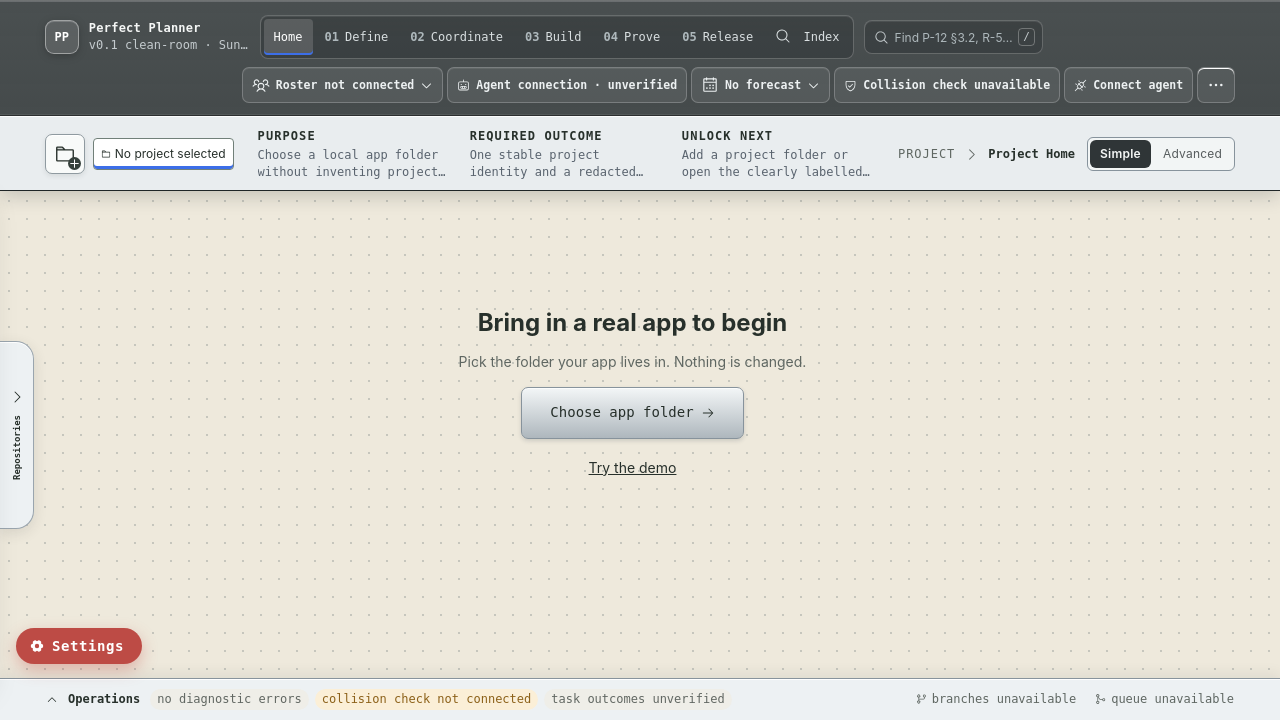
Scenario: Operations distinguishes failed session events from locally saved events
This screenshot has width=1280, height=720.
Click the button with class "ops-handle" at (640, 700), box [0, 679, 1279, 719]
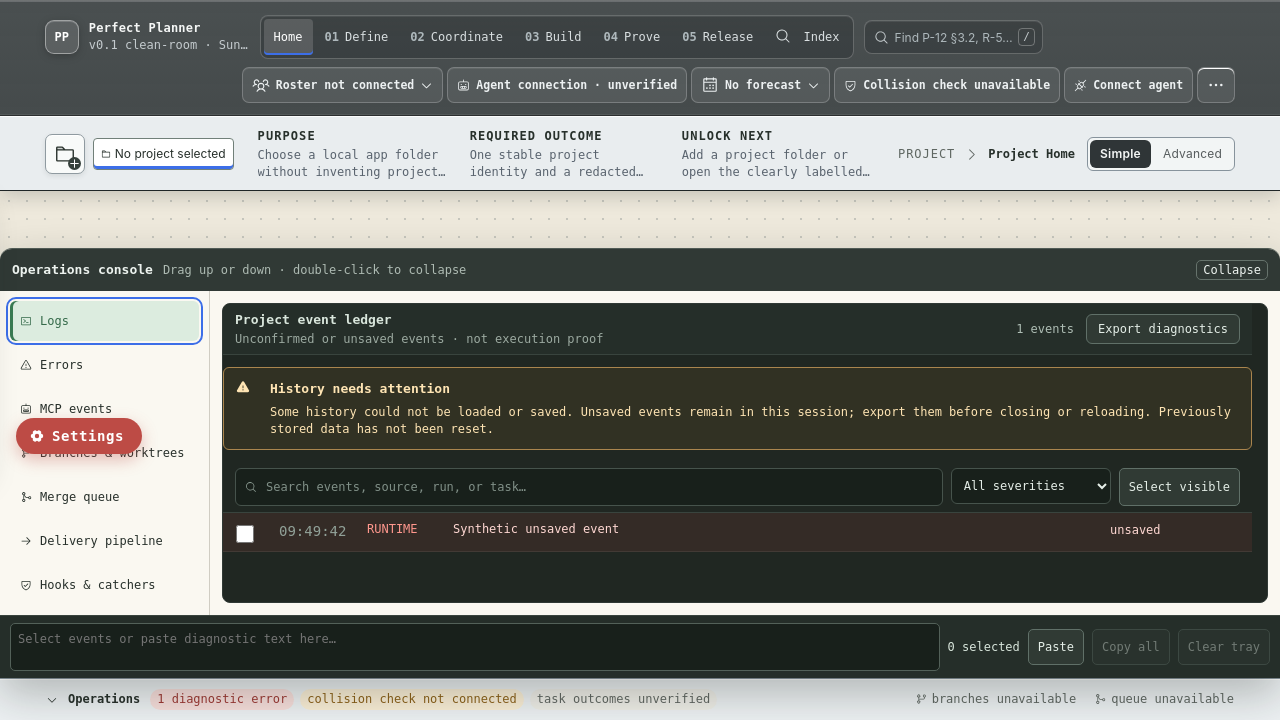
Now the text "Synthetic unsaved event" is shown, box [453, 522, 619, 536]
Now the text "Some history could not be loaded or saved" is shown, box [270, 405, 1231, 436]
Now the text "unsaved" is shown, box [1110, 524, 1161, 538]
